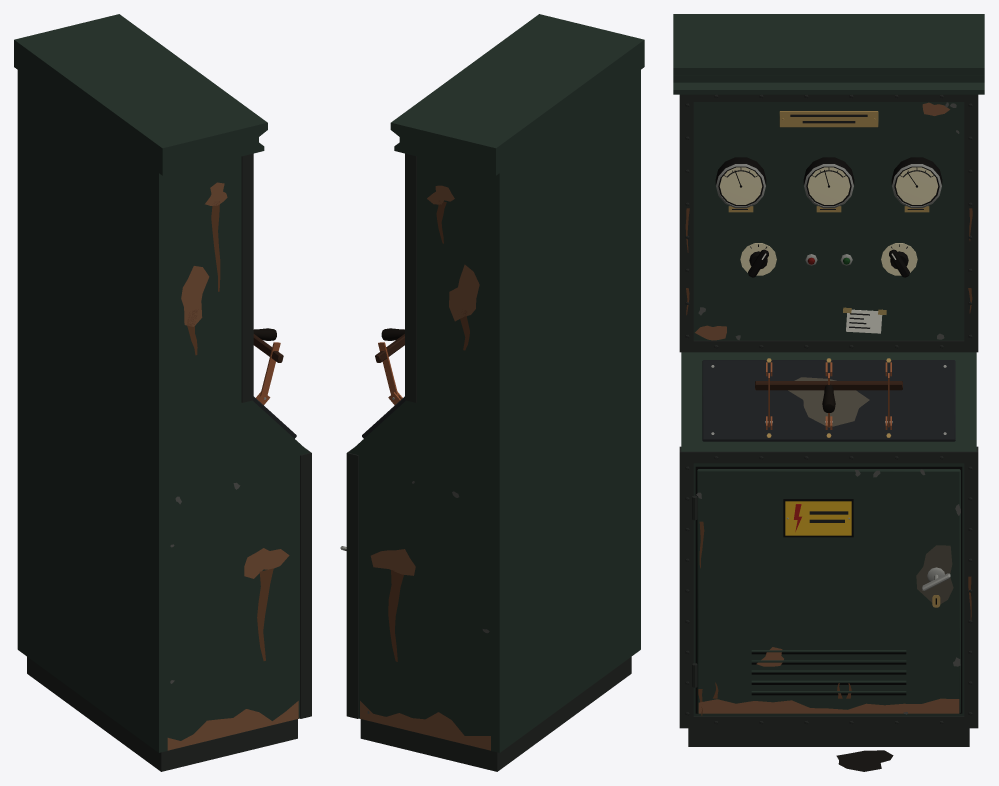
The model's file is mach_cabinet@1.glb.
3 views of the same model, side by side, from view 1: azimuth 30°, elevation 25°; view 2: azimuth 150°, elevation 25°; view 3: azimuth 270°, elevation 25° (orthographic). The views are drawn at different scales.
Visible parts, largest first — view 1: schalttafel1, schalttafel0, schalttafel20, schalttafel21; view 2: schalttafel1, schalttafel0, schalttafel20, schalttafel21; view 3: schalttafel1, schalttafel0, schalttafel9, schalttafel15, schalttafel20, schalttafel13, schalttafel14, schalttafel2, schalttafel5, schalttafel6, schalttafel3, schalttafel4 (+6 smaller).
Boxes of the visible parts, bbox=[...] form: schalttafel1: bbox=[14, 14, 309, 752]; schalttafel0: bbox=[27, 153, 311, 771]; schalttafel20: bbox=[167, 182, 298, 750]; schalttafel21: bbox=[187, 201, 273, 660]; schalttafel1: bbox=[349, 14, 644, 752]; schalttafel0: bbox=[346, 153, 631, 771]; schalttafel20: bbox=[360, 185, 490, 750]; schalttafel21: bbox=[388, 200, 469, 661]; schalttafel1: bbox=[673, 14, 984, 716]; schalttafel0: bbox=[679, 94, 978, 746]; schalttafel9: bbox=[702, 360, 955, 441]; schalttafel15: bbox=[719, 167, 938, 275]; schalttafel20: bbox=[695, 102, 959, 713]; schalttafel13: bbox=[788, 377, 953, 603]; schalttafel14: bbox=[715, 157, 942, 277]; schalttafel2: bbox=[695, 170, 962, 713]; schalttafel5: bbox=[728, 111, 940, 607]; schalttafel6: bbox=[785, 501, 851, 535]; schalttafel3: bbox=[751, 598, 936, 695]; schalttafel4: bbox=[711, 164, 950, 590].
Size of the model in its own units: 0.6589 by 2.07 by 0.884.
